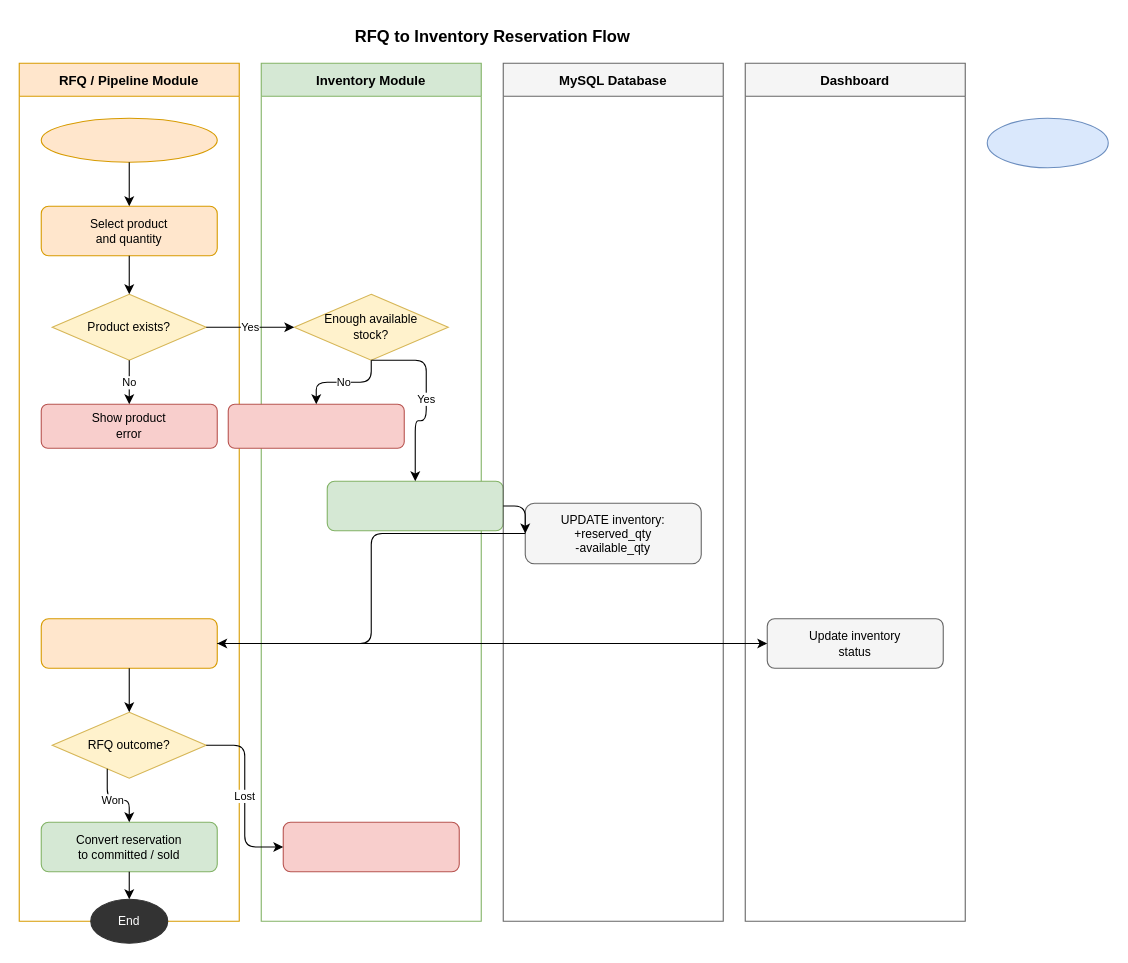
Image size: 1128x963. Some labels were removed from this diagram. Each missing label, with the centre of its shape:
Create RFQ inventory reservation: the point at 414,505
Release reservation back to available: the point at 370,846
Sales User: the point at 1047,142
Show insufficient stock error: the point at 315,425
Show reservation on RFQ detail: the point at 128,643
Start: Open RFQ: the point at 128,139
